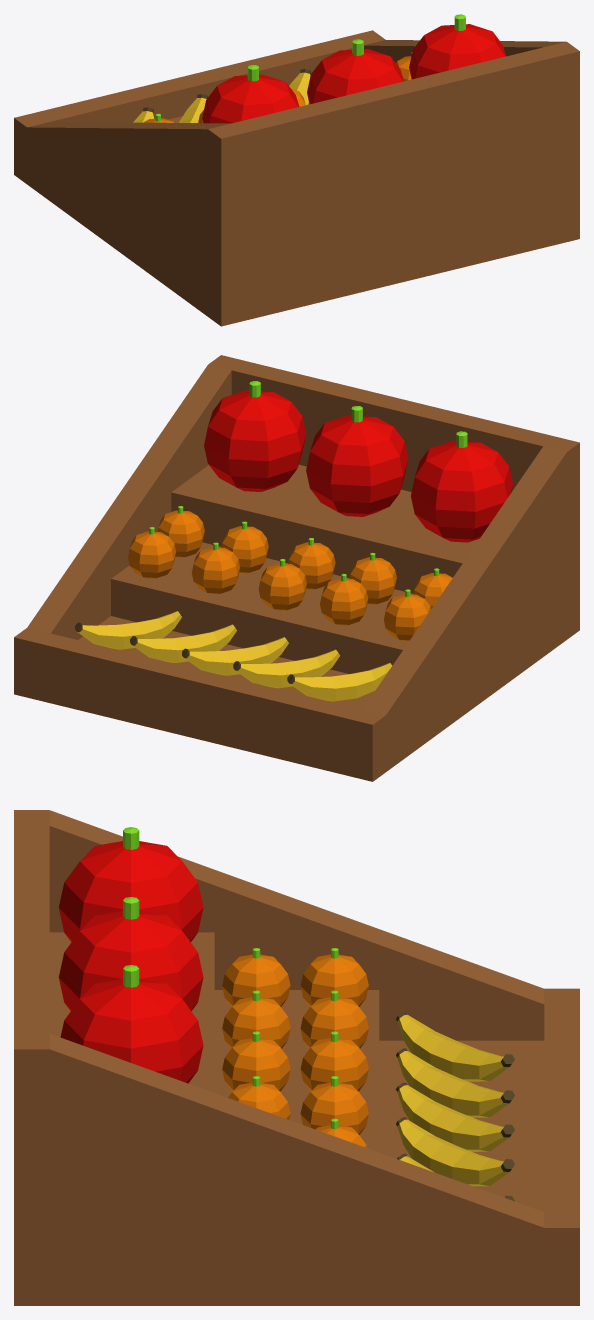
Rendered from Target_FoodStand.fbx.
3 renders of one model, top to bottom at view 1: azimuth 30°, elevation 25°; view 2: azimuth 150°, elevation 25°; view 3: azimuth 270°, elevation 25°, orthographic. The views are drawn at different scales.
Parts seen in each view (by area): view 1: FoodStand; view 2: FoodStand; view 3: FoodStand.
Boxes of the visible parts, x1,y1,x2,y2 form: FoodStand: [14, 14, 579, 326]; FoodStand: [14, 355, 579, 781]; FoodStand: [14, 810, 579, 1305].
Size of the model in its own units: 1.5 by 0.8414 by 1.5.
